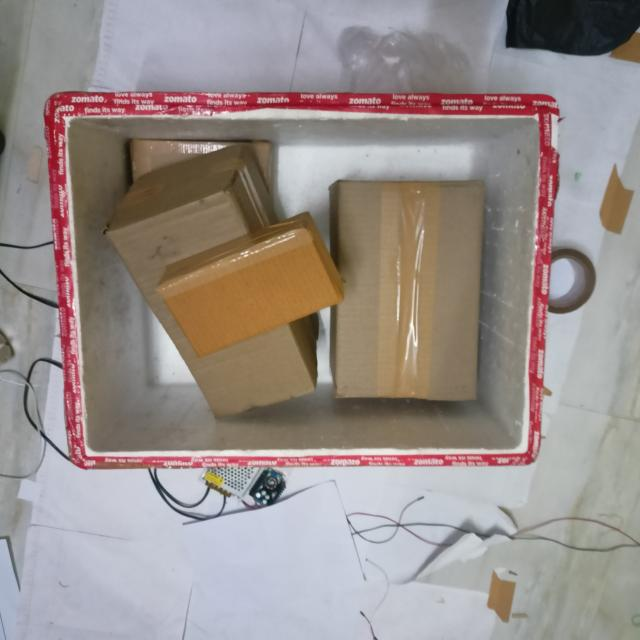box: (343, 182, 485, 394), (162, 226, 348, 354)
